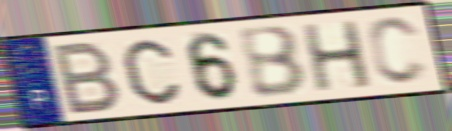6: (183, 30, 240, 103)
B: (235, 23, 311, 100), (51, 39, 124, 118)
C: (365, 14, 431, 88), (120, 37, 183, 106)
H: (300, 18, 376, 95)
